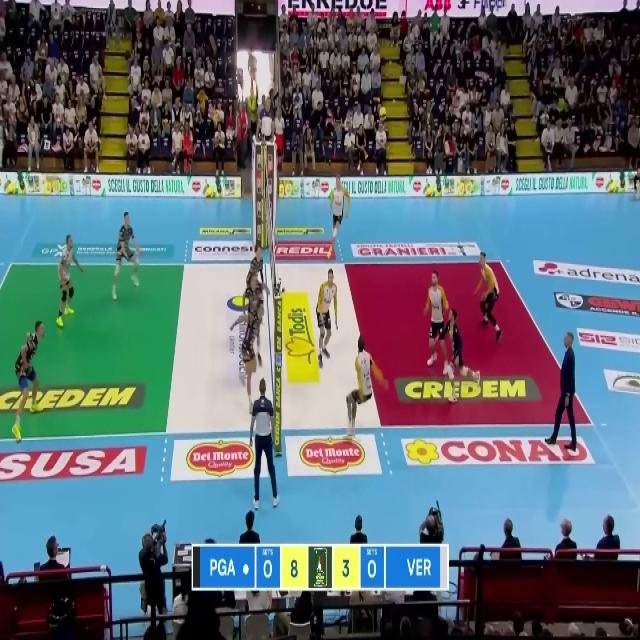volleyball court: (0, 257, 591, 437)
